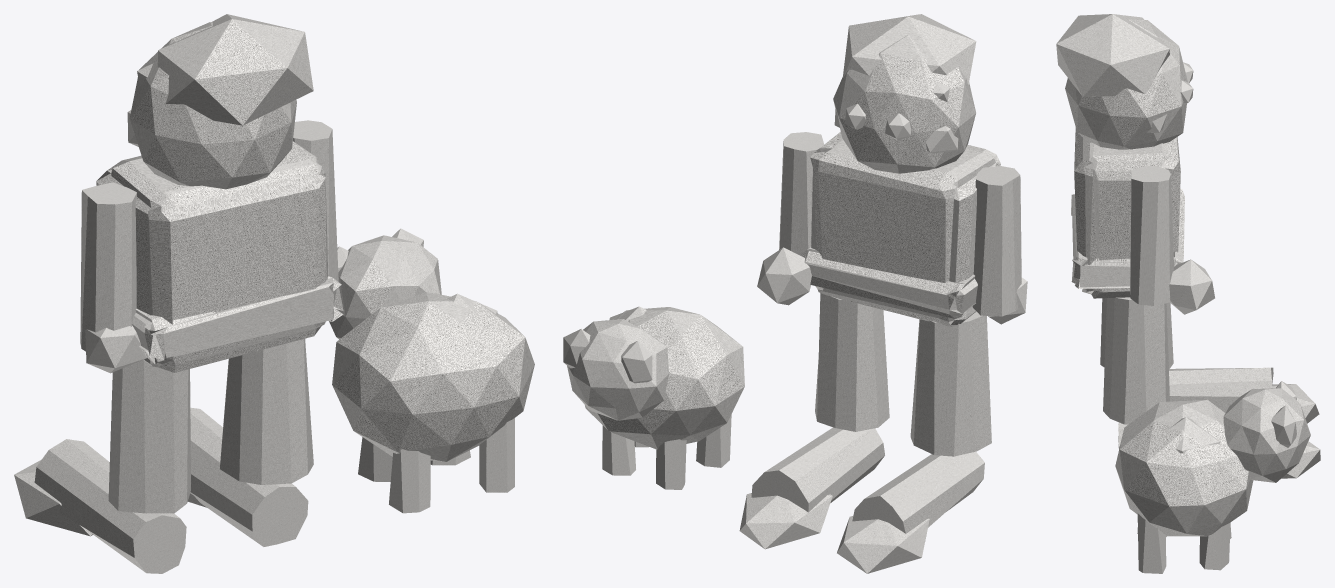
The model's file is david_mentor_v2.glb.
3 views of the same model, side by side, from view 1: azimuth 30°, elevation 25°; view 2: azimuth 150°, elevation 25°; view 3: azimuth 270°, elevation 25° (orthographic). The views are drawn at different scales.
Visible parts, largest first — view 1: David_Mentor_Outline; view 2: David_Mentor_Outline; view 3: David_Mentor_Outline.
Part boxes in pixels (x1,y1,x2,y2): David_Mentor_Outline: (14, 14, 534, 573); David_Mentor_Outline: (563, 14, 1027, 573); David_Mentor_Outline: (1056, 14, 1320, 573).
Size of the model in its own units: 0.9066 by 1 by 0.5433.
Materials: 8 (8 with a texture image).
